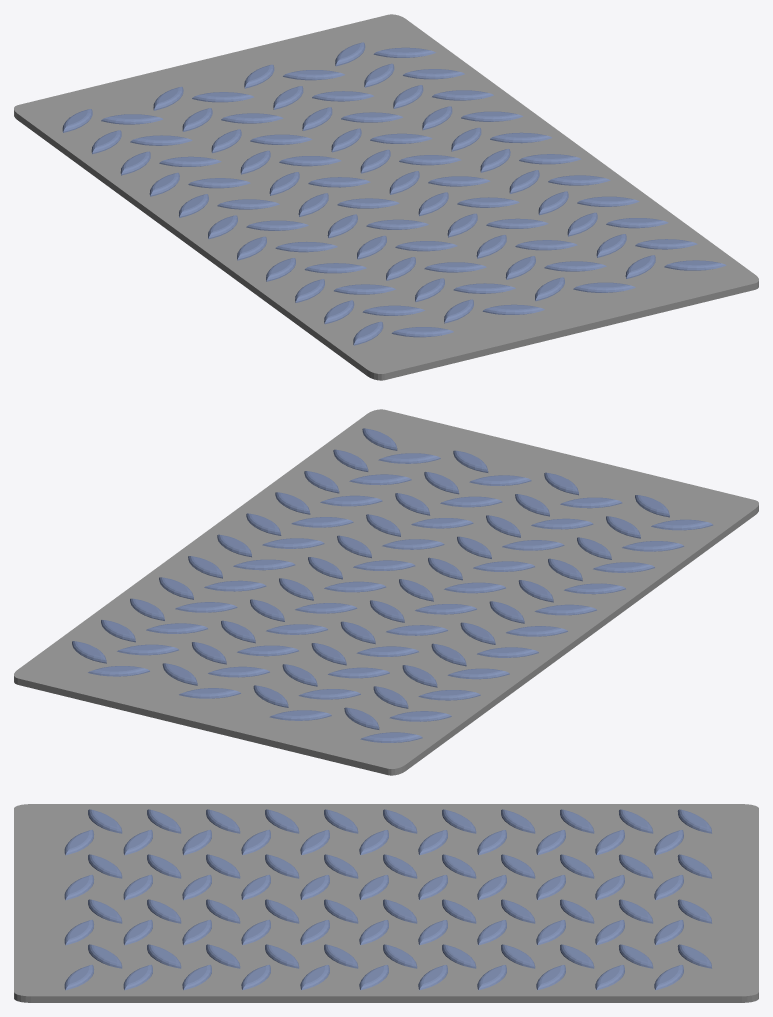
File: iron pan.fbx
3 views of the same model, one above another, from view 1: azimuth 30°, elevation 25°; view 2: azimuth 150°, elevation 25°; view 3: azimuth 270°, elevation 25° (orthographic).
Visible parts, largest first — view 1: Cube, Cube.001; view 2: Cube, Cube.001; view 3: Cube, Cube.001.
Part boxes in pixels (box(x1,y1,x2,y2)): Cube: box(14, 14, 758, 380); Cube.001: box(62, 42, 726, 345); Cube: box(14, 409, 758, 775); Cube.001: box(72, 428, 713, 742); Cube: box(14, 804, 758, 1002); Cube.001: box(64, 809, 712, 990).
Size of the model in its own units: 76.69 by 1.96 by 126.
